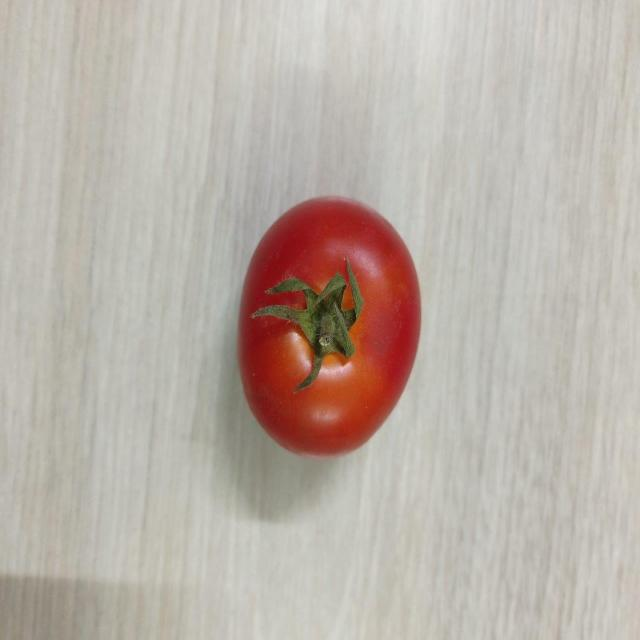Tomato: (236, 192, 424, 460)
